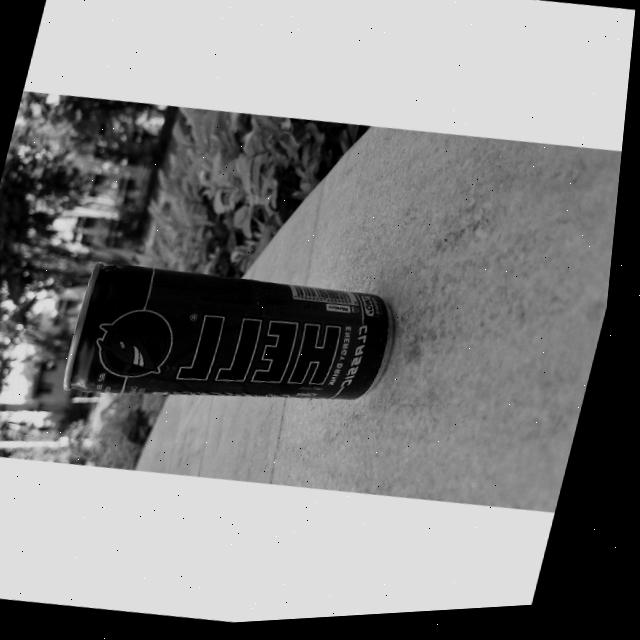Hell Classic: (61, 245, 413, 430)
